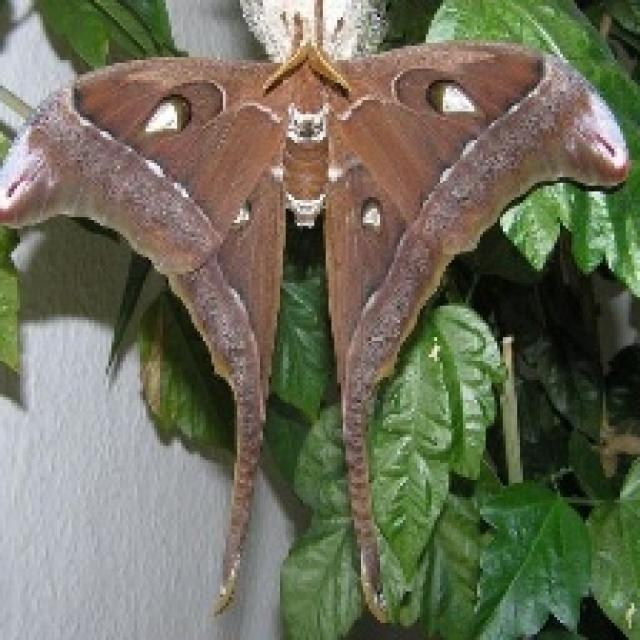butterfly: (0, 0, 631, 623)
